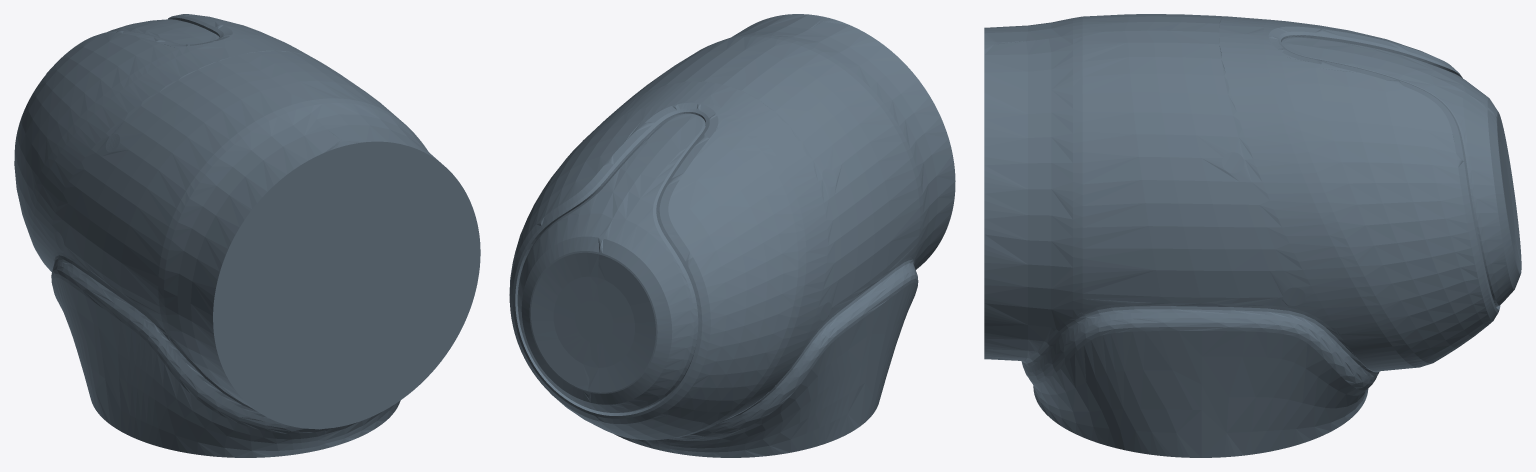
3 views of the same model, side by side, from view 1: azimuth 30°, elevation 25°; view 2: azimuth 150°, elevation 25°; view 3: azimuth 270°, elevation 25° (orthographic). The views are drawn at different scales.
Parts seen in each view (by area): view 1: MF1013_4_1; view 2: MF1013_4_1; view 3: MF1013_4_1.
Boxes of the visible parts, x1,y1,x2,y2 form: MF1013_4_1: (14, 14, 480, 457); MF1013_4_1: (509, 14, 955, 457); MF1013_4_1: (984, 14, 1521, 457).
Size of the model in its own units: 114 by 164 by 120.
